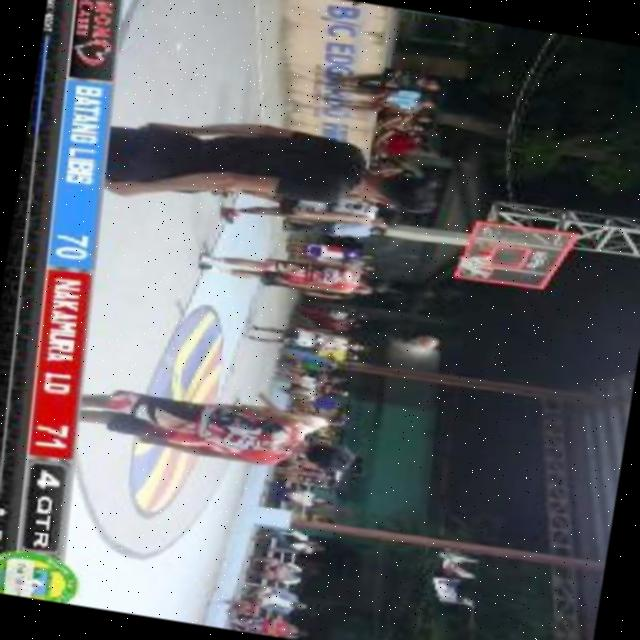ball: (406, 330, 443, 354)
hoop: (482, 253, 498, 284)
